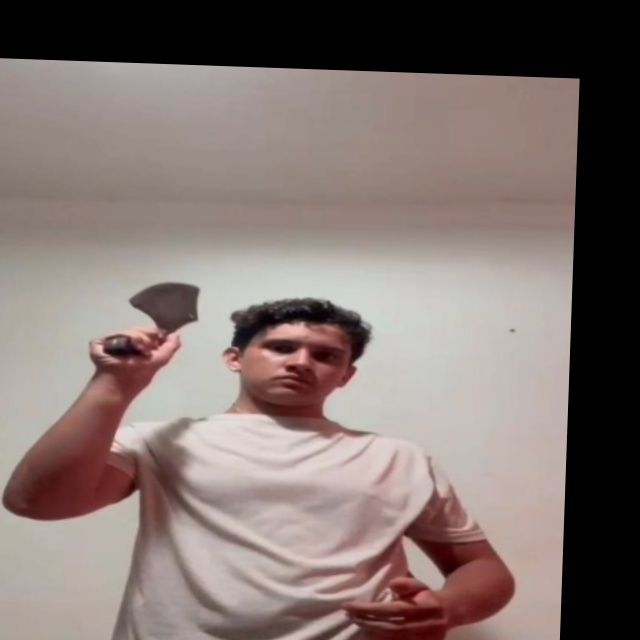Sharp-Object: (124, 279, 212, 331)
